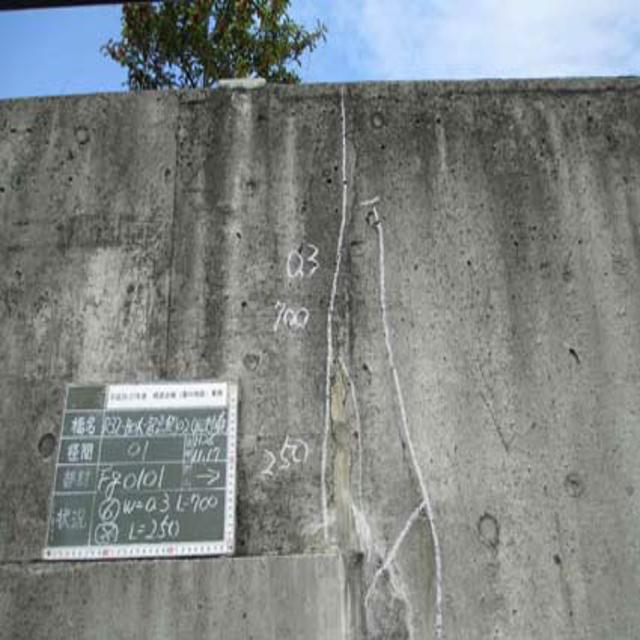freelime: (70, 243, 156, 390), (343, 483, 411, 603)
